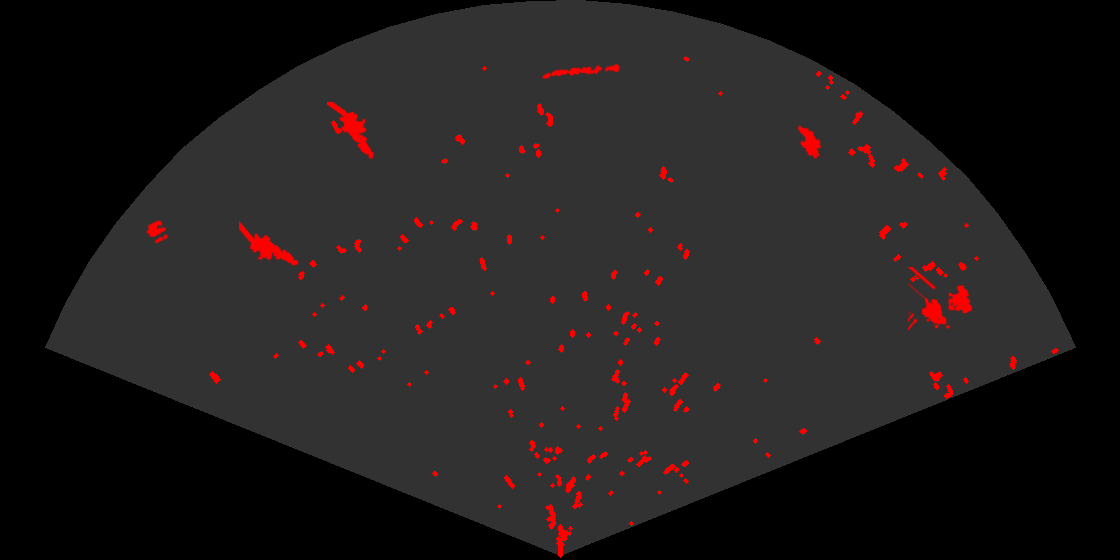AUV: (796, 124, 823, 160)
ball: (145, 218, 170, 245)
cage: (908, 267, 974, 332)
chain: (540, 62, 620, 80)
frogman: (327, 102, 376, 161), (239, 221, 300, 268)
